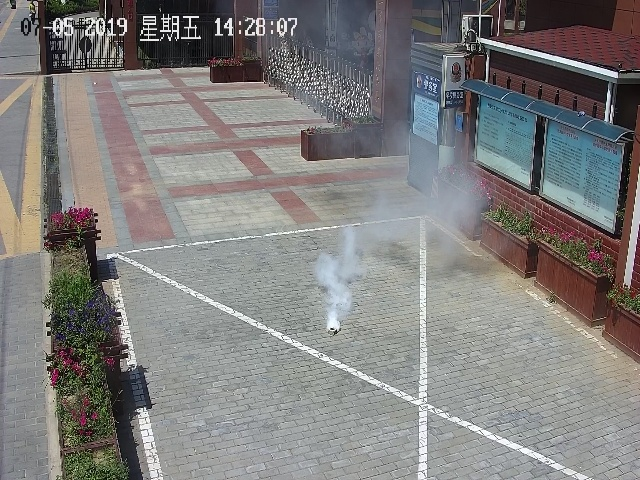smoke: (375, 157, 483, 260), (310, 227, 361, 329)
